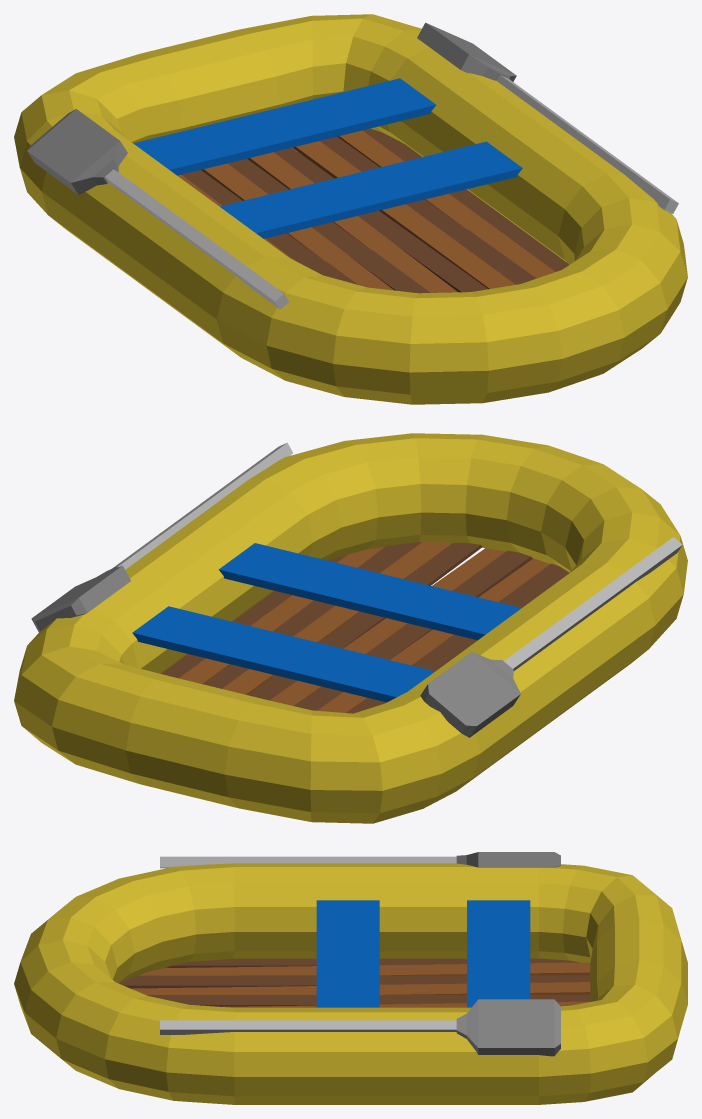
The model's file is Boat.fbx.
3 renders of one model, top to bottom at view 1: azimuth 30°, elevation 25°; view 2: azimuth 150°, elevation 25°; view 3: azimuth 270°, elevation 25°, orthographic. The views are drawn at different scales.
Parts seen in each view (by area): view 1: Torus.001, Cube, Cube.001, Cube.017, Cube.005, Cube.002, Cube.009, Cube.004, Cube.018, Cube.003, Cube.008, Cube.006 (+4 smaller); view 2: Torus.001, Cube, Cube.001, Cube.017, Cube.008, Cube.018, Cube.004, Cube.005, Cube.009, Cube.006, Cube.007, Cube.016 (+4 smaller); view 3: Torus.001, Cube, Cube.001, Cube.016, Cube.011, Cube.015, Cube.013, Cube.010, Cube.007, Cube.018, Cube.012, Cube.017 (+1 smaller).
Part boxes in pixels (left/top/right/bottom): Torus.001: left=14, top=14, right=687, bottom=404; Cube: left=220, top=141, right=522, bottom=238; Cube.001: left=133, top=78, right=435, bottom=175; Cube.017: left=27, top=109, right=127, bottom=194; Cube.005: left=292, top=141, right=515, bottom=289; Cube.002: left=337, top=130, right=555, bottom=278; Cube.009: left=247, top=152, right=457, bottom=292; Cube.004: left=274, top=147, right=487, bottom=292; Cube.018: left=105, top=169, right=289, bottom=309; Cube.003: left=320, top=136, right=536, bottom=284; Cube.008: left=228, top=158, right=430, bottom=293; Cube.006: left=201, top=163, right=393, bottom=290; Torus.001: left=14, top=433, right=687, bottom=823; Cube: left=218, top=543, right=521, bottom=640; Cube.001: left=132, top=606, right=434, bottom=702; Cube.017: left=420, top=652, right=520, bottom=737; Cube.008: left=295, top=550, right=532, bottom=710; Cube.018: left=504, top=537, right=682, bottom=670; Cube.004: left=249, top=543, right=482, bottom=700; Cube.005: left=222, top=542, right=452, bottom=695; Cube.009: left=269, top=548, right=505, bottom=706; Cube.006: left=317, top=558, right=549, bottom=712; Cube.007: left=347, top=563, right=569, bottom=713; Cube.016: left=31, top=565, right=130, bottom=632; Torus.001: left=14, top=863, right=687, bottom=1104; Cube: left=316, top=900, right=379, bottom=1007; Cube.001: left=467, top=900, right=530, bottom=1007; Cube.016: left=456, top=999, right=560, bottom=1056; Cube.011: left=118, top=975, right=590, bottom=988; Cube.015: left=160, top=1020, right=456, bottom=1034; Cube.013: left=139, top=962, right=590, bottom=975; Cube.010: left=131, top=982, right=590, bottom=994; Cube.007: left=146, top=994, right=590, bottom=1006; Cube.018: left=160, top=856, right=456, bottom=868; Cube.012: left=166, top=958, right=579, bottom=967; Cube.017: left=456, top=852, right=560, bottom=867.
Bounding box in the file's own units: 99.64 × 25.09 × 150.
